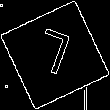L_S: (32, 26, 78, 84)
